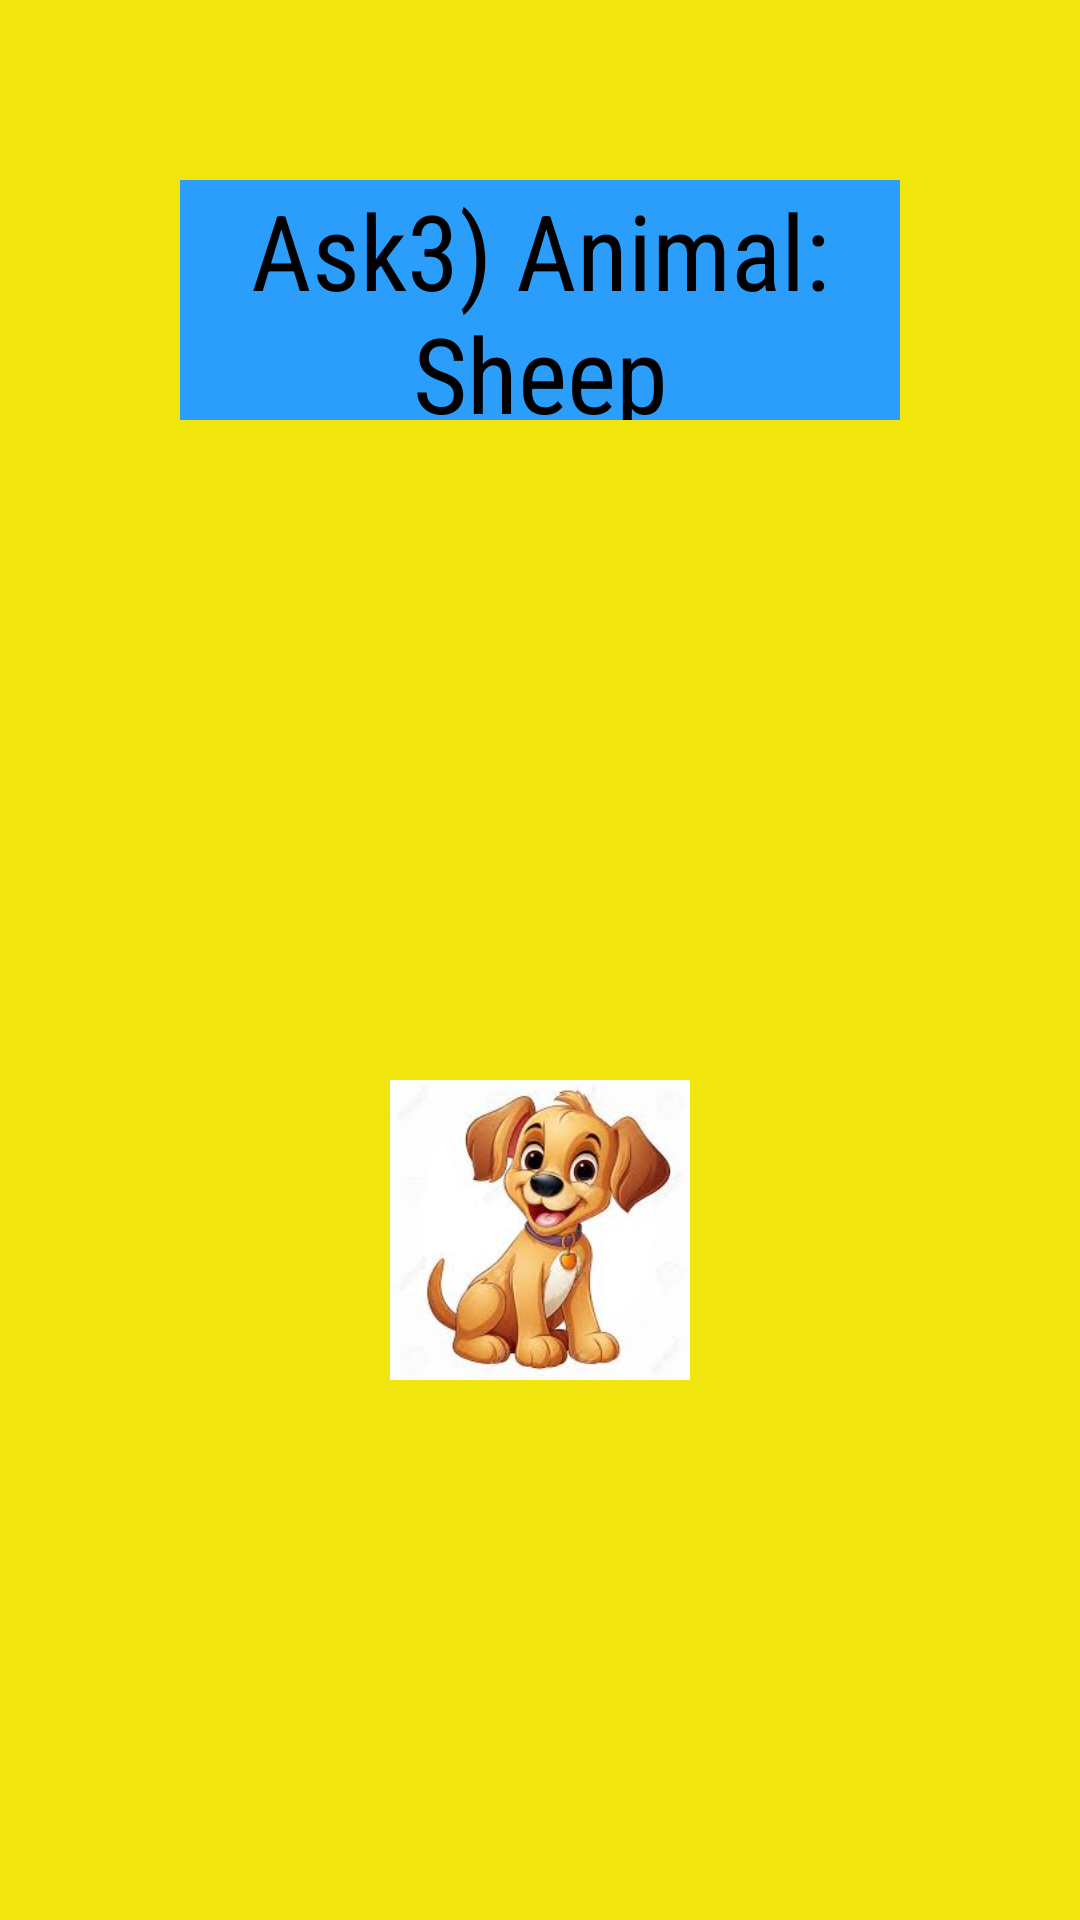

Point at icon controls on the screen. Image size 1080×1920, points as [x,y].
perro ask: [540,1230]
